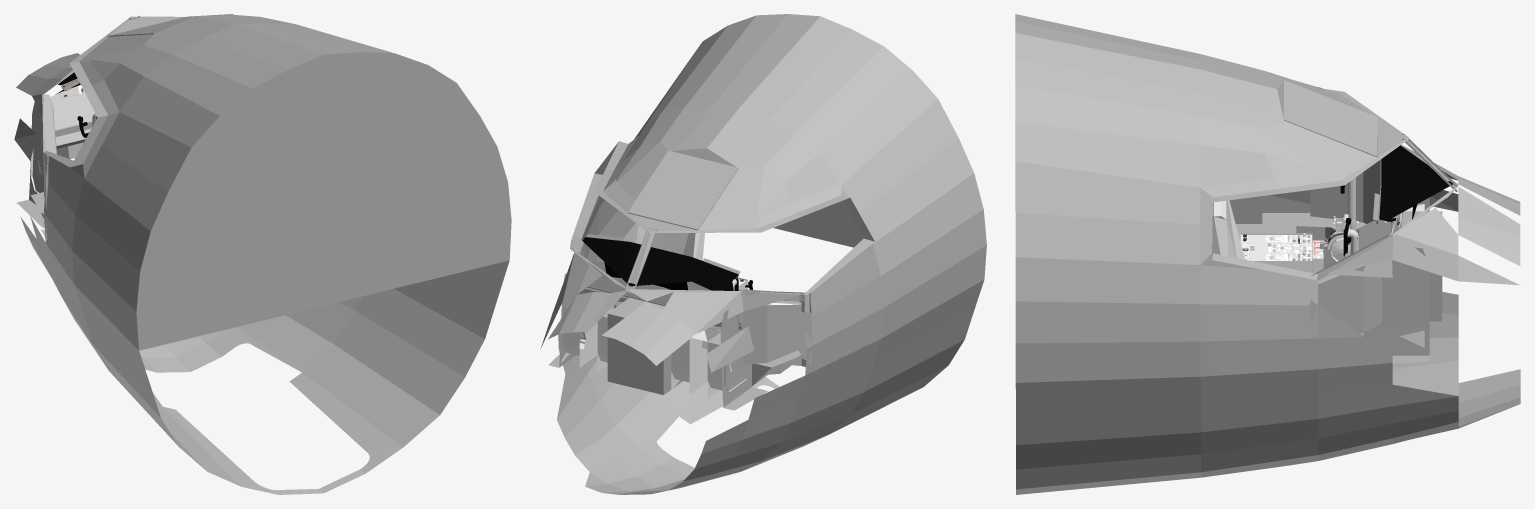
3 views of the same model, side by side, from view 1: azimuth 30°, elevation 25°; view 2: azimuth 150°, elevation 25°; view 3: azimuth 270°, elevation 25° (orthographic). The views are drawn at different scales.
Visible parts, largest first — view 1: B737; view 2: B737; view 3: B737.
Part boxes in pixels (left/top/right/bottom): B737: left=14, top=14, right=511, bottom=494; B737: left=540, top=14, right=986, bottom=494; B737: left=1015, top=14, right=1520, bottom=494.
Size of the model in its own units: 3.06 by 3.42 by 3.49.
Materials: 30 (15 with a texture image).
